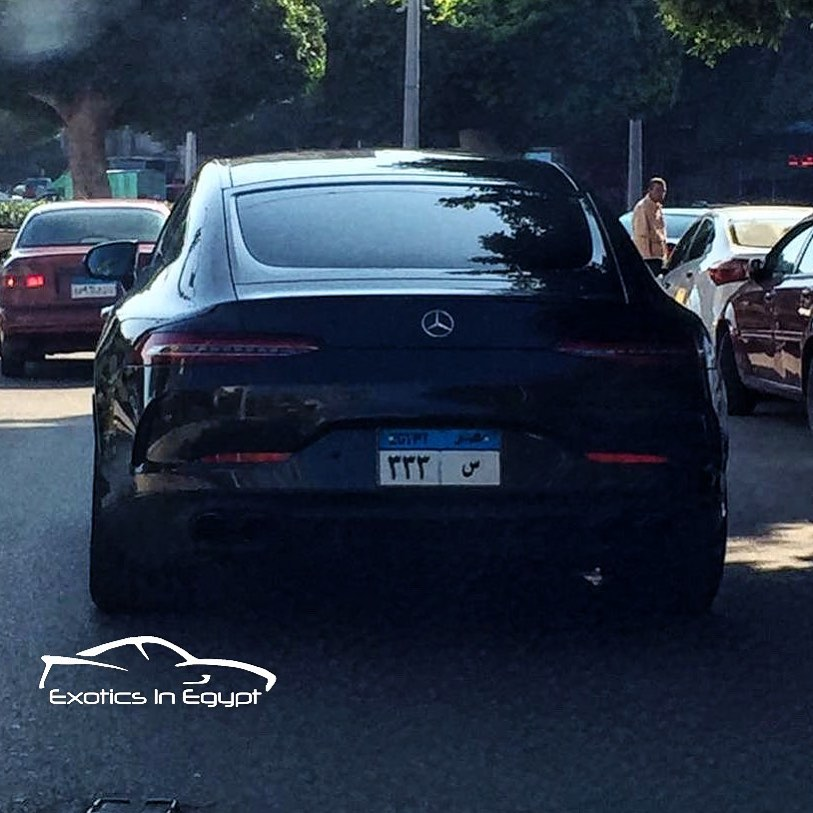carpl: (371, 424, 502, 488)
